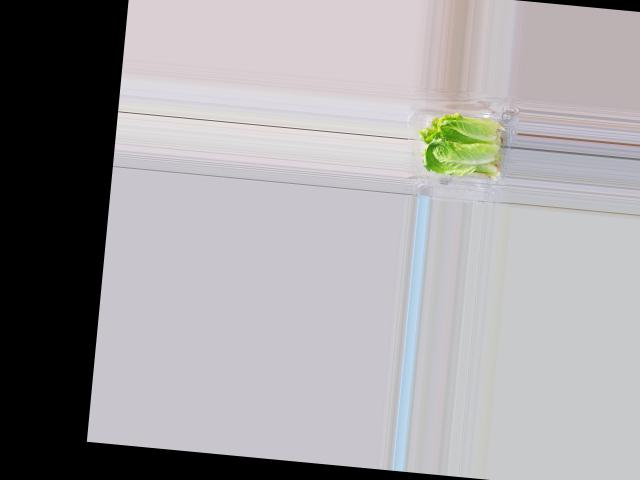lettuce: (416, 110, 502, 179)
